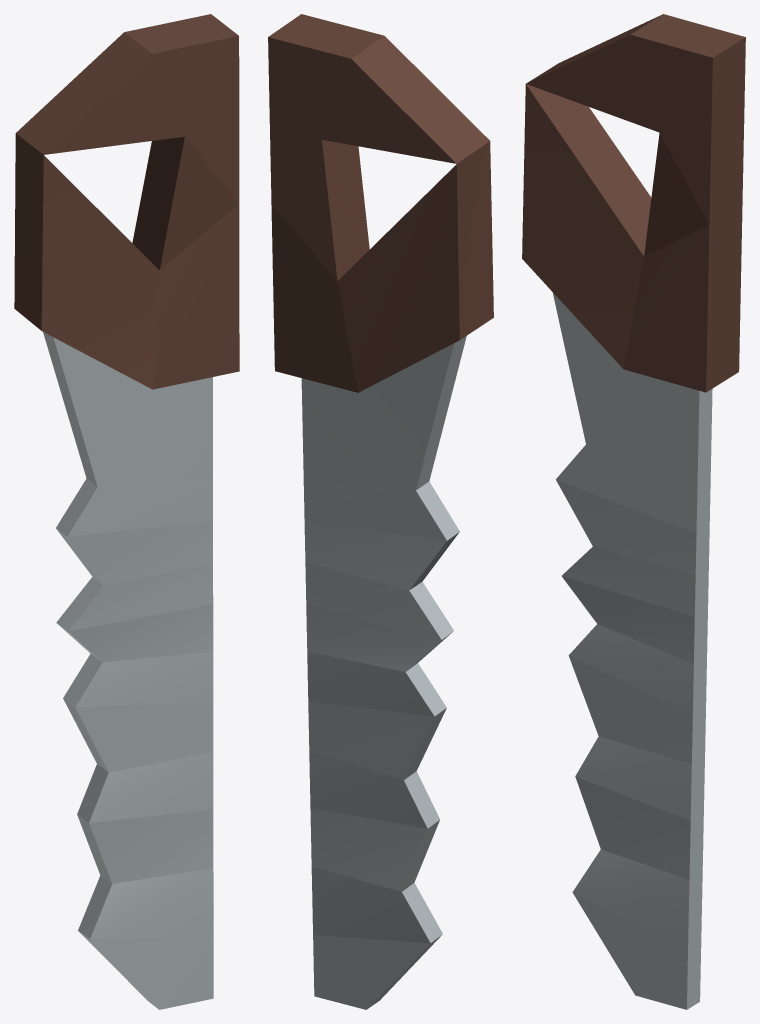
3 views of the same model, side by side, from view 1: azimuth 30°, elevation 25°; view 2: azimuth 150°, elevation 25°; view 3: azimuth 330°, elevation 25° (orthographic).
Visible parts, largest first — view 1: node_MeshObject-1254498304-PolyPaper18; view 2: node_MeshObject-1254498304-PolyPaper18; view 3: node_MeshObject-1254498304-PolyPaper18.
Boxes of the visible parts, x1,y1,x2,y2 form: node_MeshObject-1254498304-PolyPaper18: (14, 14, 239, 1009); node_MeshObject-1254498304-PolyPaper18: (268, 14, 493, 1009); node_MeshObject-1254498304-PolyPaper18: (522, 14, 745, 1009).
Size of the model in its own units: 0.1856 by 0.8644 by 0.0647.
